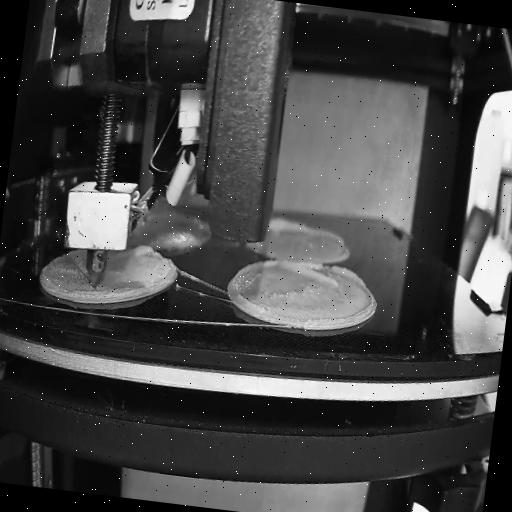over_extrusion: (275, 258, 368, 292), (230, 256, 278, 317), (115, 241, 157, 266), (268, 217, 308, 237)
